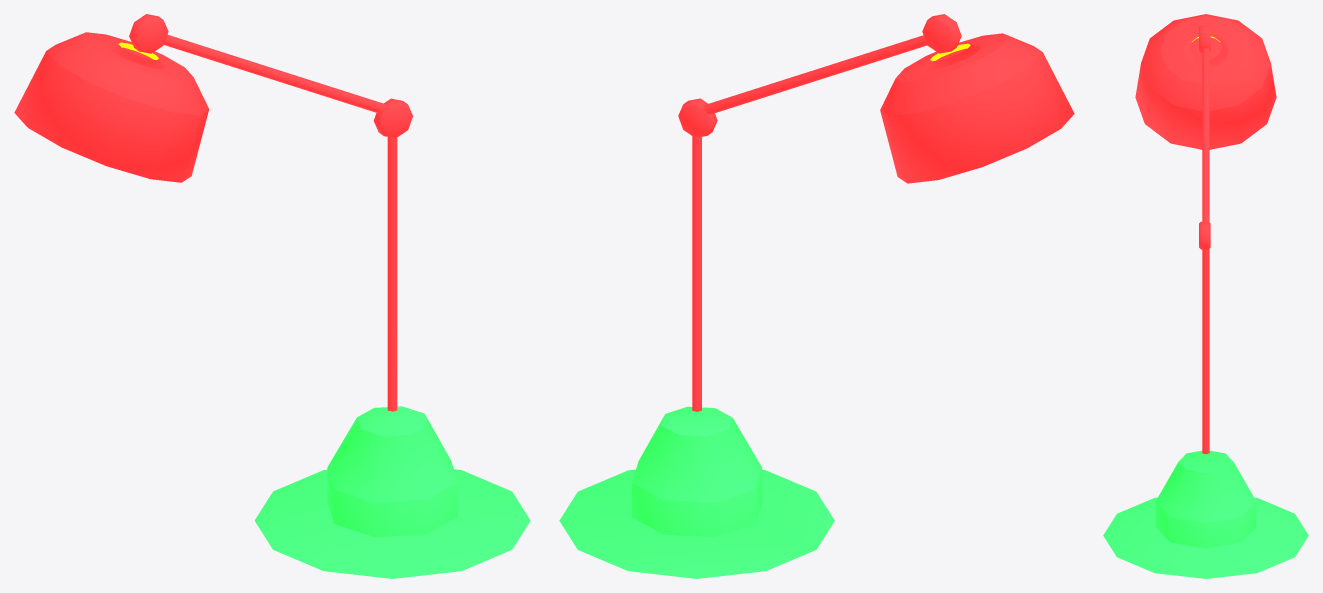
Rendered from MOD_LAM_Table_lamp_04.fbx.
The picture shows the model from 3 angles, left to right: view 1: azimuth 30°, elevation 25°; view 2: azimuth 150°, elevation 25°; view 3: azimuth 270°, elevation 25°; orthographic projection. The views are drawn at different scales.
Parts seen in each view (by area): view 1: polySurface1; view 2: polySurface1; view 3: polySurface1.
Boxes of the visible parts, left/top/right/bottom form: polySurface1: left=14, top=14, right=530, bottom=578; polySurface1: left=559, top=14, right=1074, bottom=578; polySurface1: left=1103, top=14, right=1308, bottom=578.
Size of the model in its own units: 53.82 by 60 by 26.58.
